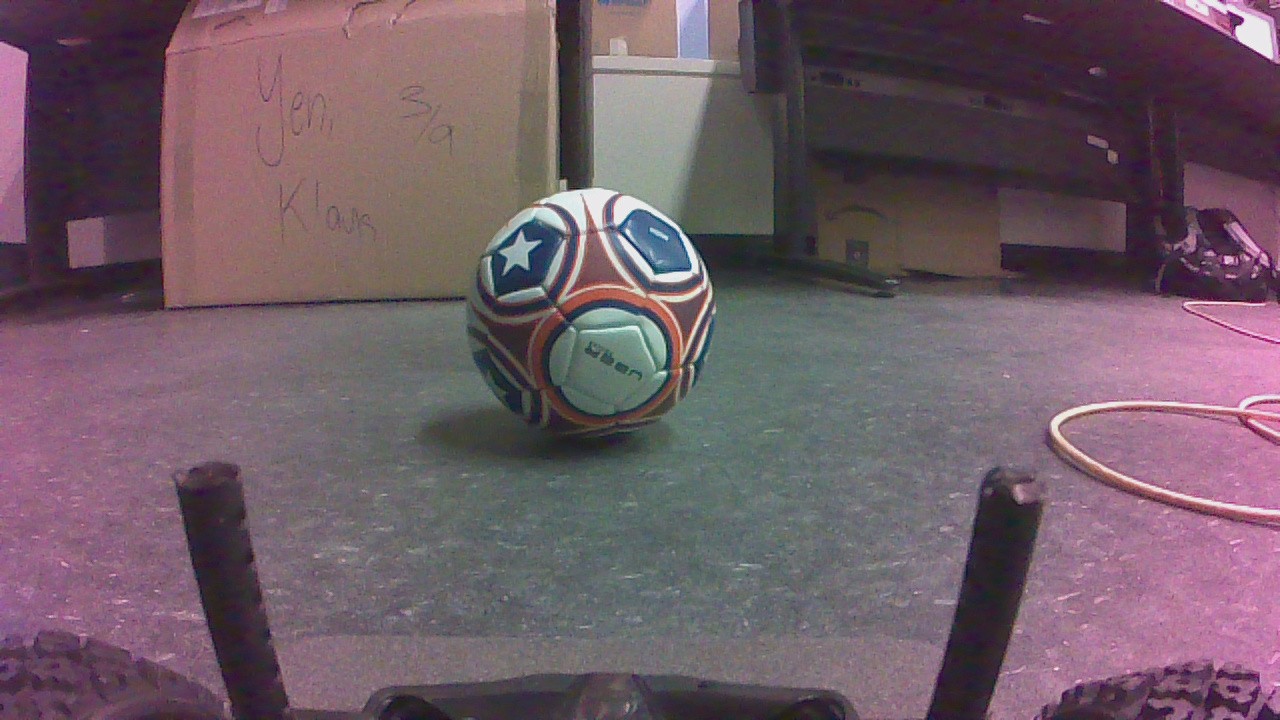ball: (467, 191, 726, 444)
